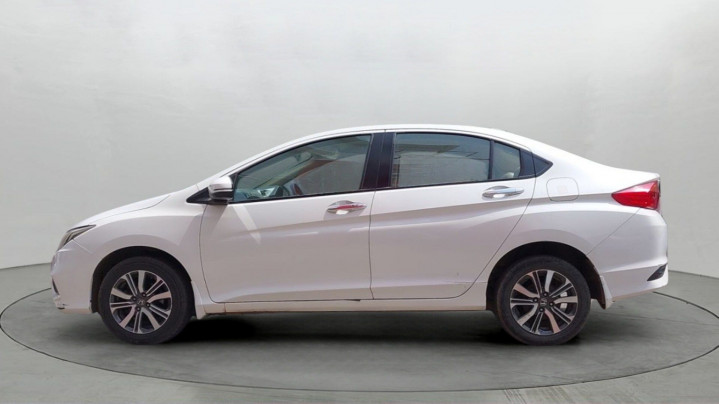car: (43, 115, 676, 348)
